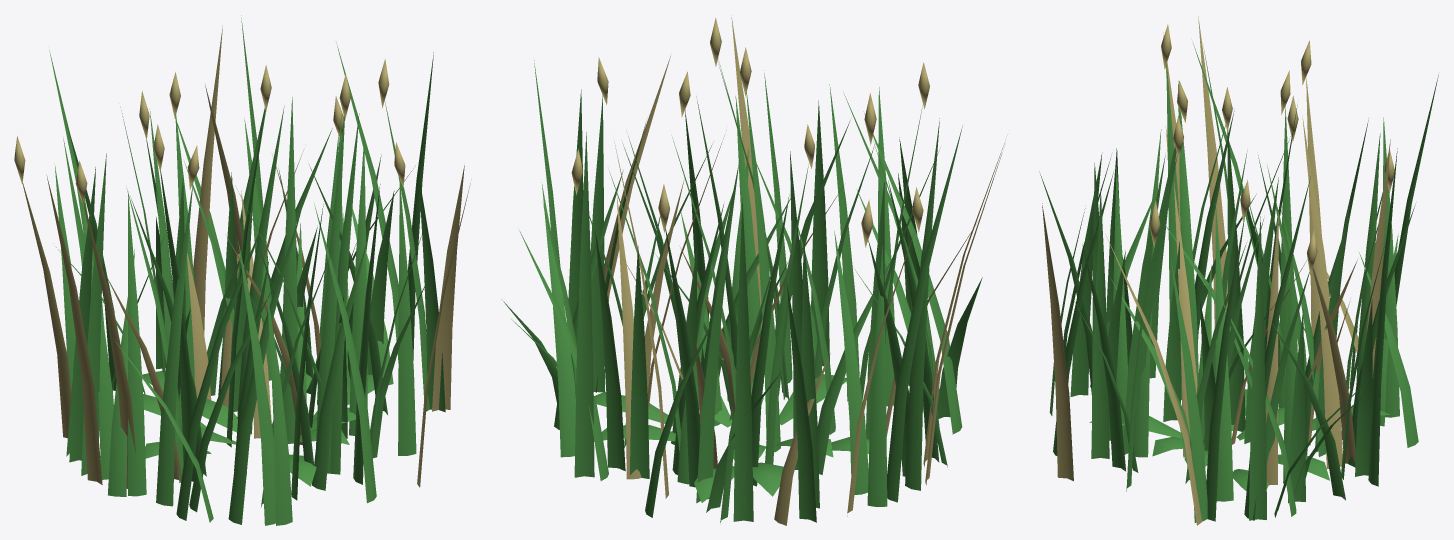
The model's file is grass_tuft.glb.
3 renders of one model, left to right at view 1: azimuth 30°, elevation 25°; view 2: azimuth 150°, elevation 25°; view 3: azimuth 270°, elevation 25°, orthographic. The views are drawn at different scales.
Parts seen in each view (by area): view 1: grass_tuft_blades, grass_tuft_dry_blades; view 2: grass_tuft_blades, grass_tuft_dry_blades; view 3: grass_tuft_blades, grass_tuft_dry_blades.
Boxes of the visible parts, x1,y1,x2,y2 form: grass_tuft_blades: (49,15,445,525); grass_tuft_dry_blades: (14,25,470,488); grass_tuft_blades: (501,58,982,522); grass_tuft_dry_blades: (571,15,1005,525); grass_tuft_blades: (1039,42,1438,522); grass_tuft_dry_blades: (1042,16,1394,525).
Size of the model in its own units: 0.6617 by 0.564 by 0.5688.
